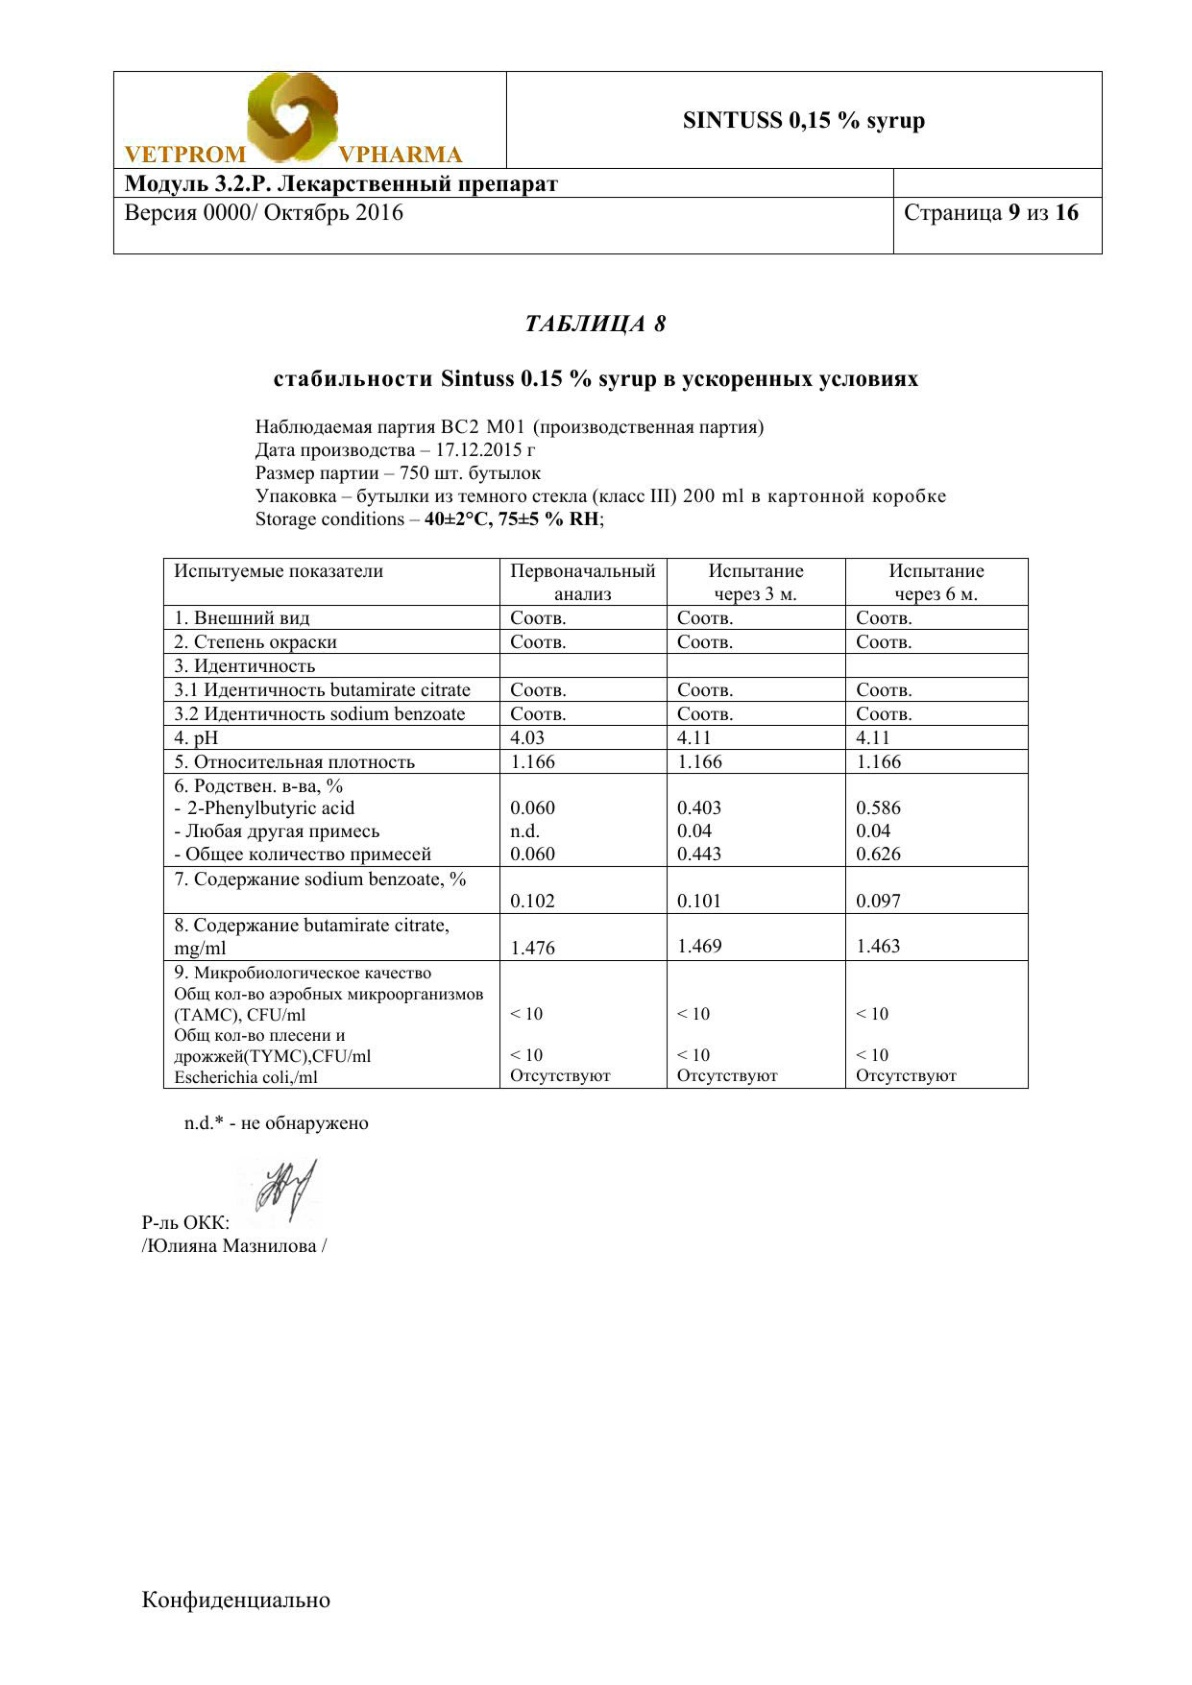full_lined: (161, 556, 1031, 1092)
merged_cells: (111, 70, 1106, 255)
